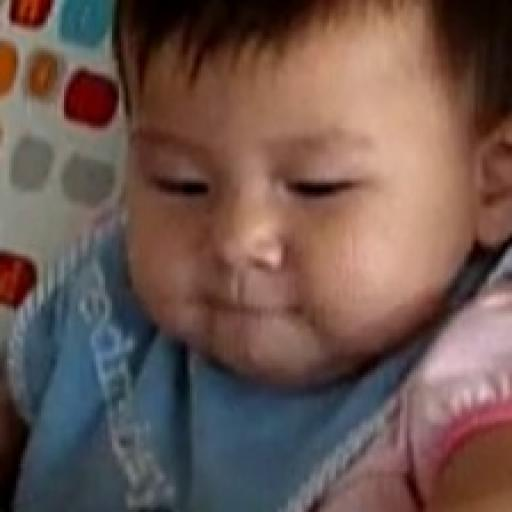Autism: (83, 0, 493, 421)
